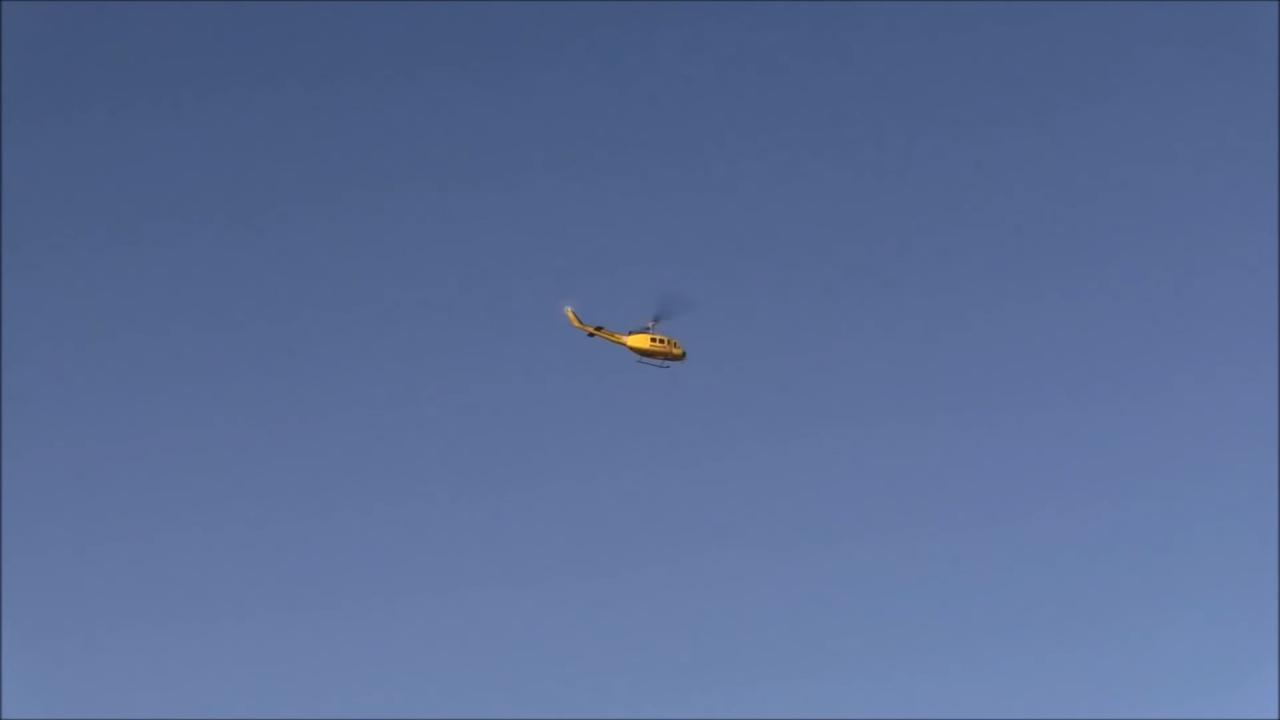Helicopter: (537, 266, 758, 399)
